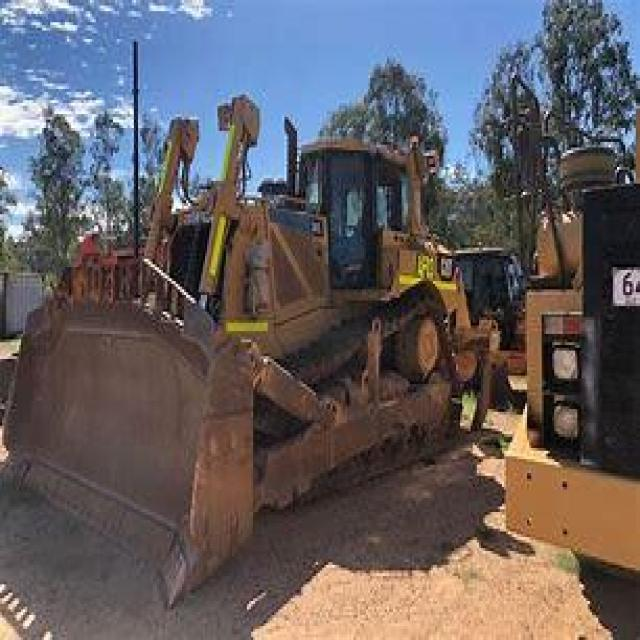buldozerpayloadergrader: (4, 84, 521, 606)
